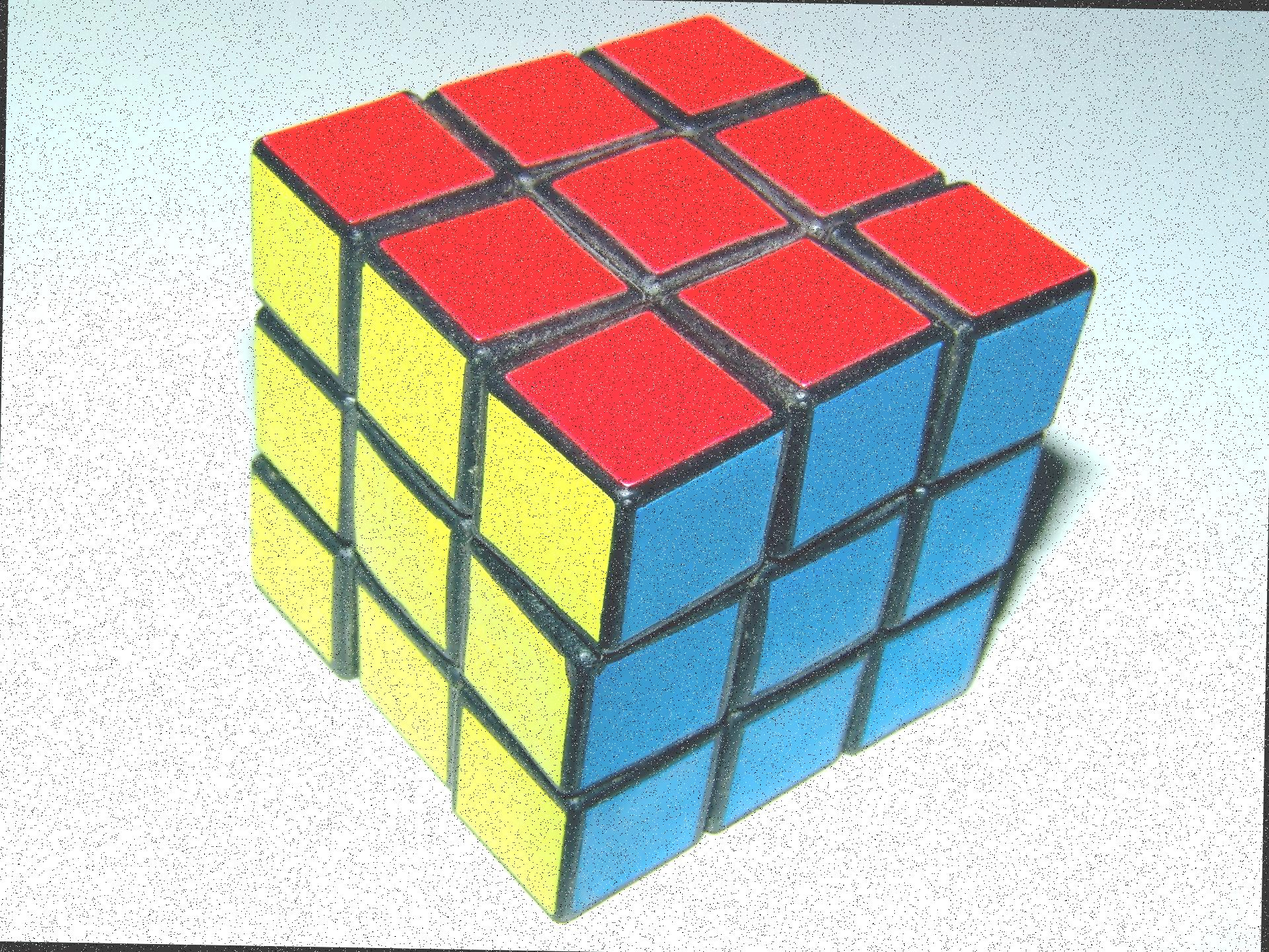rubiks_cube: (250, 16, 1091, 913)
